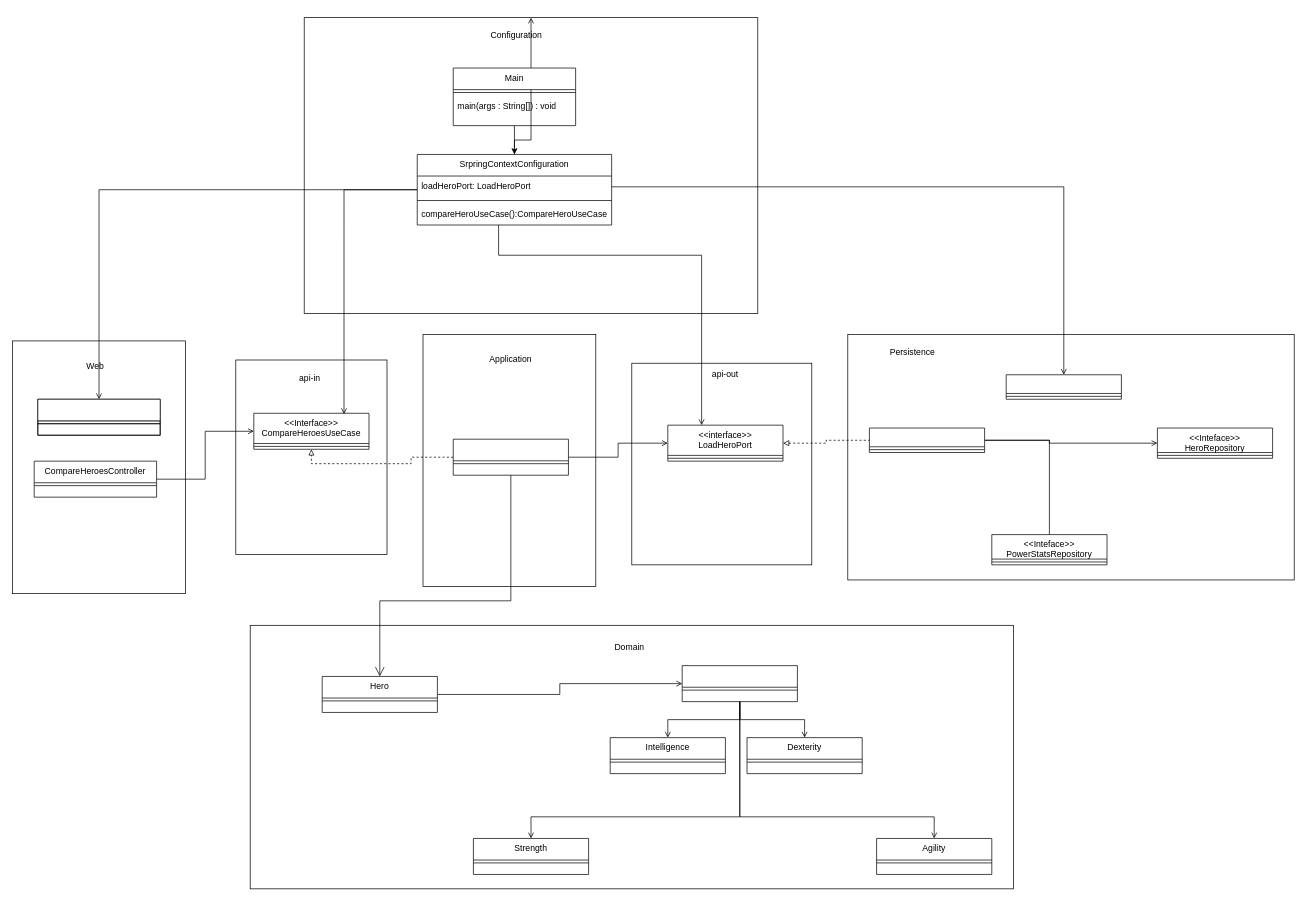
This 1307x901 diagram has some shape labels left out. Here are the shapes that lost their labels. From the top down, the centre of each, then its label:
the point at 1063,386: JpaConfig
the point at 98,417: WebConfig
the point at 510,456: CompareHeroesService
the point at 927,440: PersistenceAdapter
the point at 739,683: PowerStats
